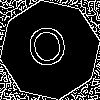O: (25, 25, 71, 77)
